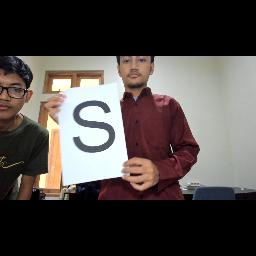s: (68, 97, 122, 161)
